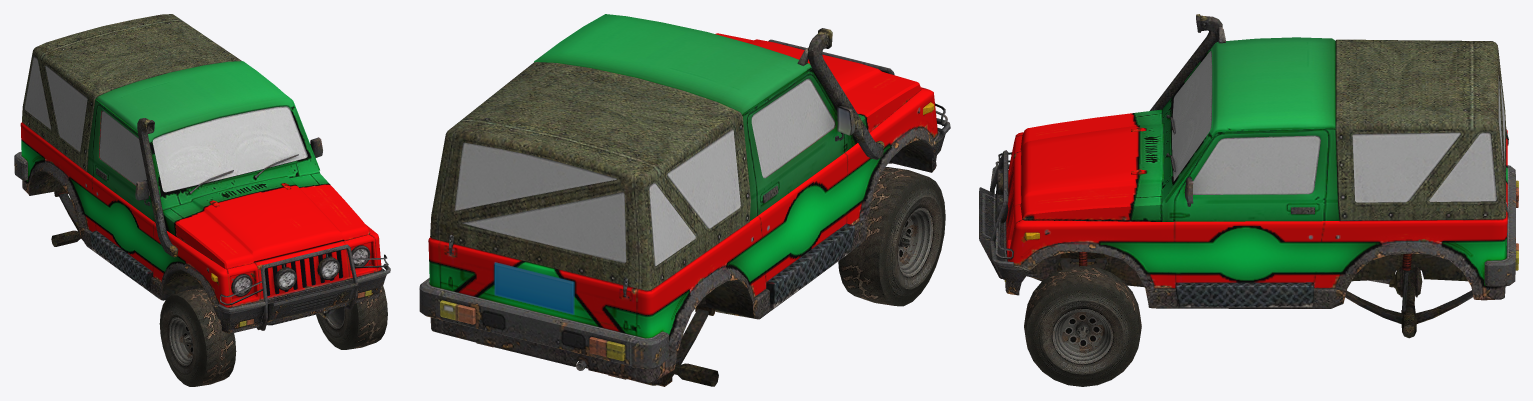
The model's file is Offroad_Jeep-2.FBX.
3 renders of one model, left to right at view 1: azimuth 30°, elevation 25°; view 2: azimuth 150°, elevation 25°; view 3: azimuth 270°, elevation 25°, orthographic. The views are drawn at different scales.
Parts seen in each view (by area): view 1: Offroad_Jeep-2, Offroad_Jeep-2_Wheel-1, Offroad_Jeep-2_Wheel-2; view 2: Offroad_Jeep-2, Offroad_Jeep-2_Wheel-1; view 3: Offroad_Jeep-2, Offroad_Jeep-2_Wheel-2.
Part boxes in pixels (<box>): Offroad_Jeep-2: <box>14,14,390,333</box>; Offroad_Jeep-2_Wheel-1: <box>159,288,236,386</box>; Offroad_Jeep-2_Wheel-2: <box>316,285,387,349</box>; Offroad_Jeep-2: <box>419,14,950,386</box>; Offroad_Jeep-2_Wheel-1: <box>838,167,945,306</box>; Offroad_Jeep-2: <box>979,14,1518,338</box>; Offroad_Jeep-2_Wheel-2: <box>1024,266,1141,386</box>.
Bounding box in the file's own units: 9.76 × 11.13 × 19.87.
Materials: 1 (1 with a texture image).
